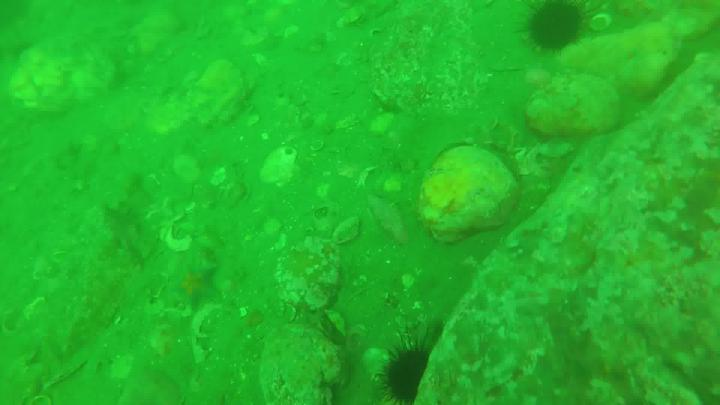echinus: (519, 1, 590, 59), (379, 343, 441, 405)
scallop: (257, 148, 299, 187), (329, 216, 360, 247), (317, 310, 347, 342), (313, 141, 325, 153)
starfish: (169, 263, 217, 308)
